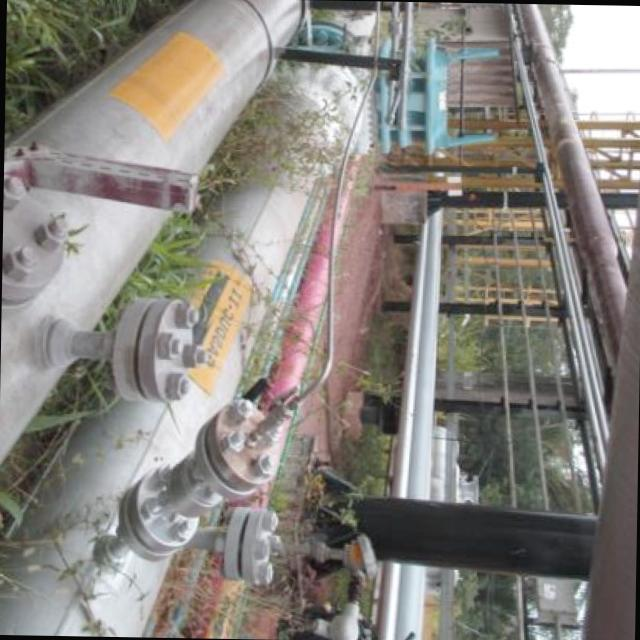gas: (0, 3, 384, 636), (0, 0, 309, 460), (186, 148, 365, 636), (520, 3, 625, 347), (373, 216, 430, 640), (396, 197, 442, 640)
